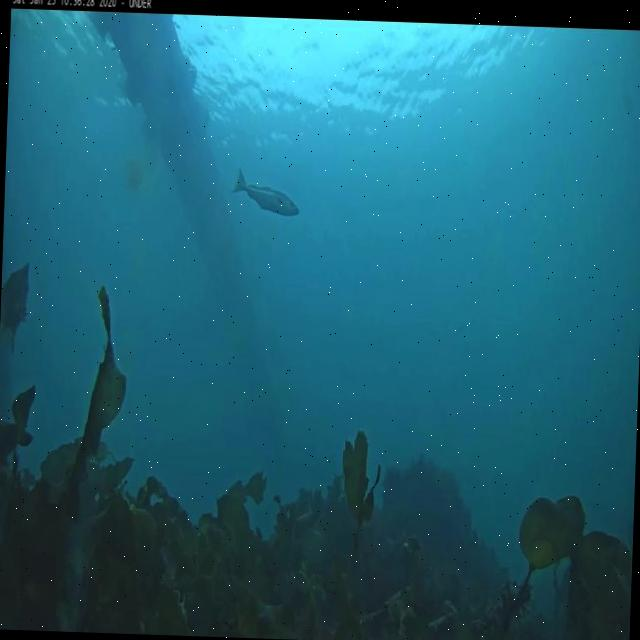fish: (233, 171, 303, 217), (0, 260, 32, 351)
